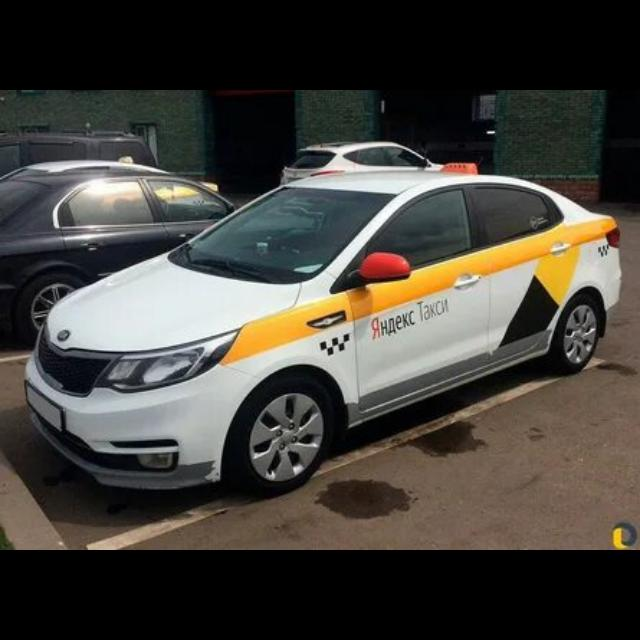taxi: (23, 160, 622, 496)
